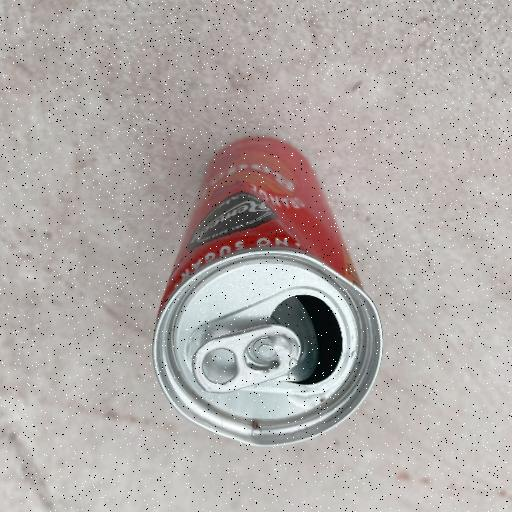Metal: (149, 132, 385, 448)
